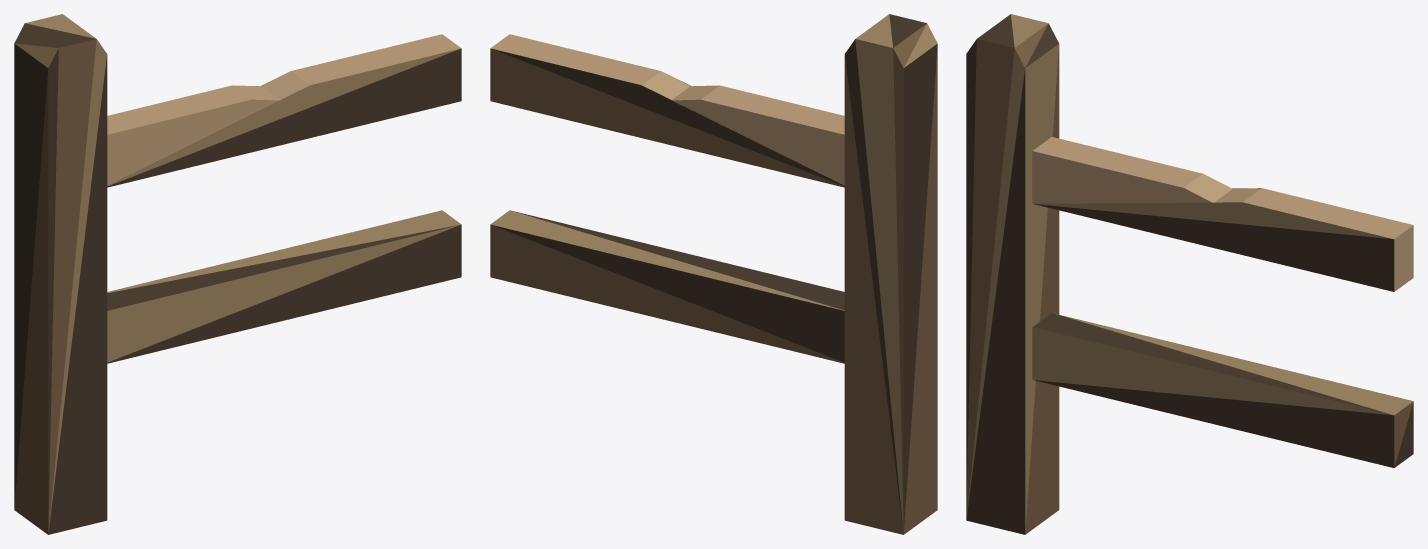
File: TW_WOOD_RAIL_1M_A_LOD0.glb
The picture shows the model from 3 angles, left to right: view 1: azimuth 30°, elevation 25°; view 2: azimuth 150°, elevation 25°; view 3: azimuth 330°, elevation 25°; orthographic projection.
Visible parts, largest first — view 1: TW_WOOD_RAIL_1M_A_LOD0; view 2: TW_WOOD_RAIL_1M_A_LOD0; view 3: TW_WOOD_RAIL_1M_A_LOD0.
Part boxes in pixels (x1,y1,x2,y2): TW_WOOD_RAIL_1M_A_LOD0: (14, 14, 461, 534); TW_WOOD_RAIL_1M_A_LOD0: (490, 14, 937, 534); TW_WOOD_RAIL_1M_A_LOD0: (966, 14, 1413, 534).
Size of the model in its own units: 1 by 1.1 by 0.14.
Materials: 1 (1 with a texture image).
